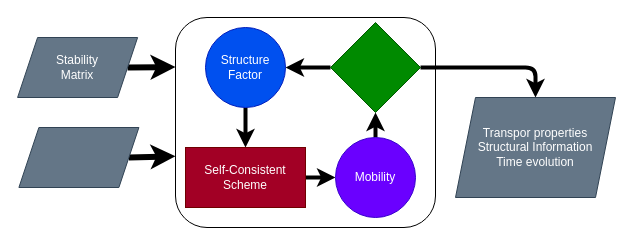
Image size: 633x245. Some labels were removed from this diagram. Each missing label, with the box of its shape:
Preparation Protocol: (18, 126, 139, 188)
Stability Evualation: (330, 22, 420, 112)
